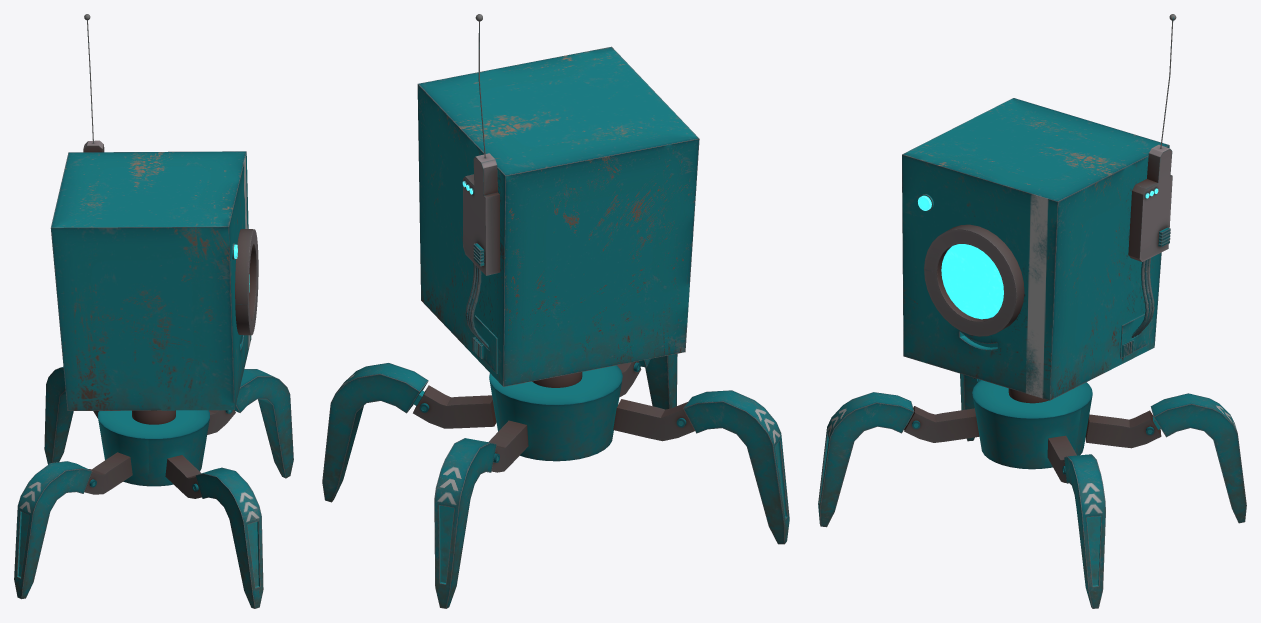
Rendered from NYC_robot.glb.
The picture shows the model from 3 angles, left to right: view 1: azimuth 30°, elevation 25°; view 2: azimuth 150°, elevation 25°; view 3: azimuth 270°, elevation 25°; orthographic projection. The views are drawn at different scales.
Visible parts, largest first — view 1: Sphere, Circle.003; view 2: Sphere, Circle.003; view 3: Sphere, Circle.003.
Boxes of the visible parts, x1,y1,x2,y2 form: Sphere: (50, 14, 258, 410); Circle.003: (14, 367, 293, 608); Sphere: (417, 14, 699, 386); Circle.003: (322, 353, 789, 608); Sphere: (902, 14, 1176, 400); Circle.003: (818, 373, 1246, 608).
Size of the model in its own units: 1.58 by 2.16 by 1.65.
2 materials, 2 textured.
